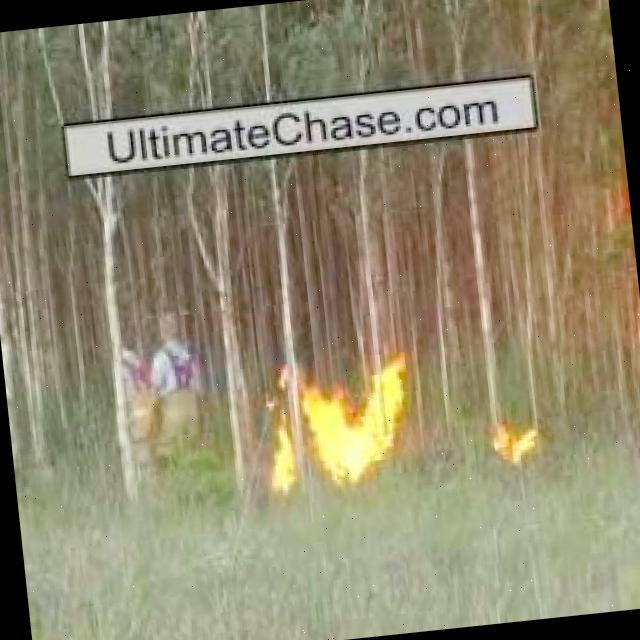fire: (300, 361, 422, 492), (264, 423, 304, 507), (488, 422, 550, 460)
